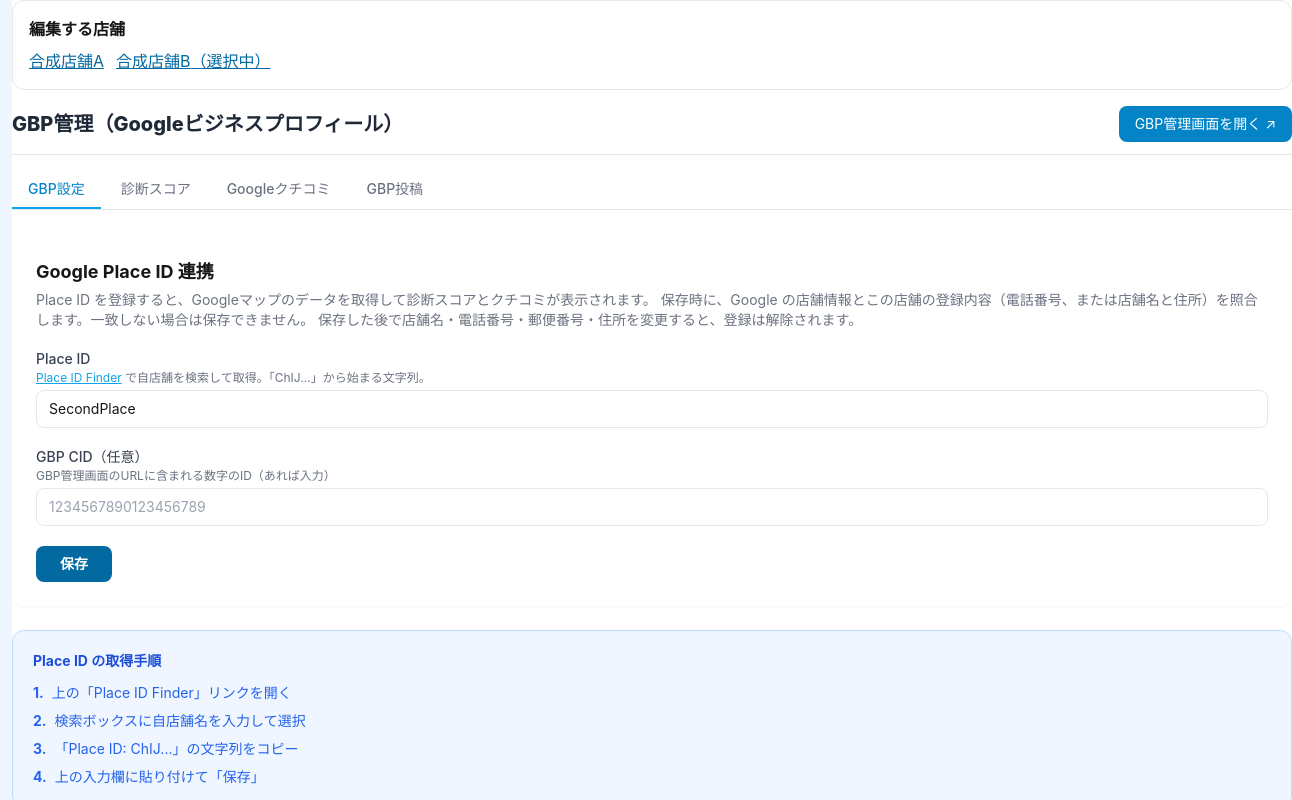
Scenario: GBP save refused by the ownership check shows the reason instead of a generic failure
Expected: the field showing "SecondPlace" is shown, [36,390,1268,428]
Click the button "保存" at (74, 564), box [36,546,112,582]
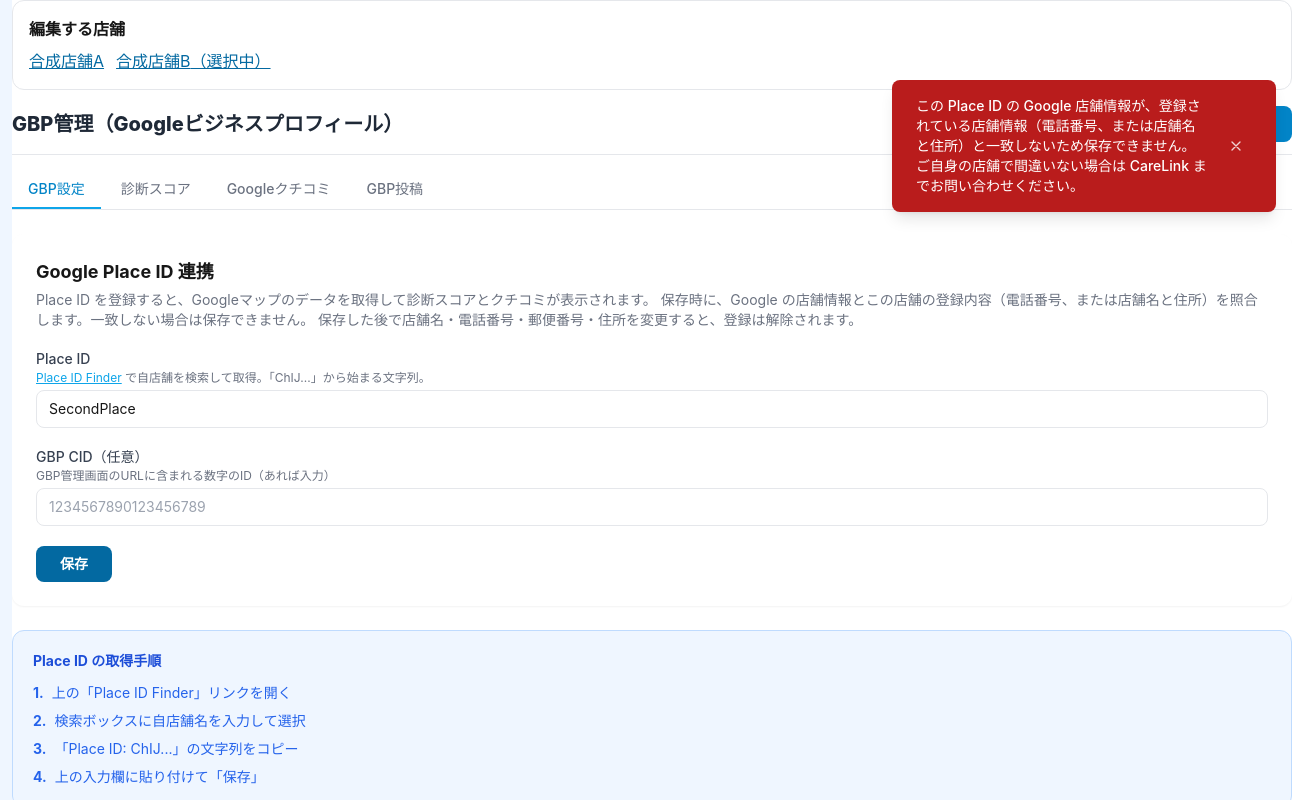
Expected: the text "この Place ID の Google 店舗情報が、登録されている店舗情報（電話番号、または店舗名と住所）と一致しないため保存できません。ご自身の店舗で間違いない場合は CareLink までお問い合わせください。" is shown, [916,97,1207,194]
